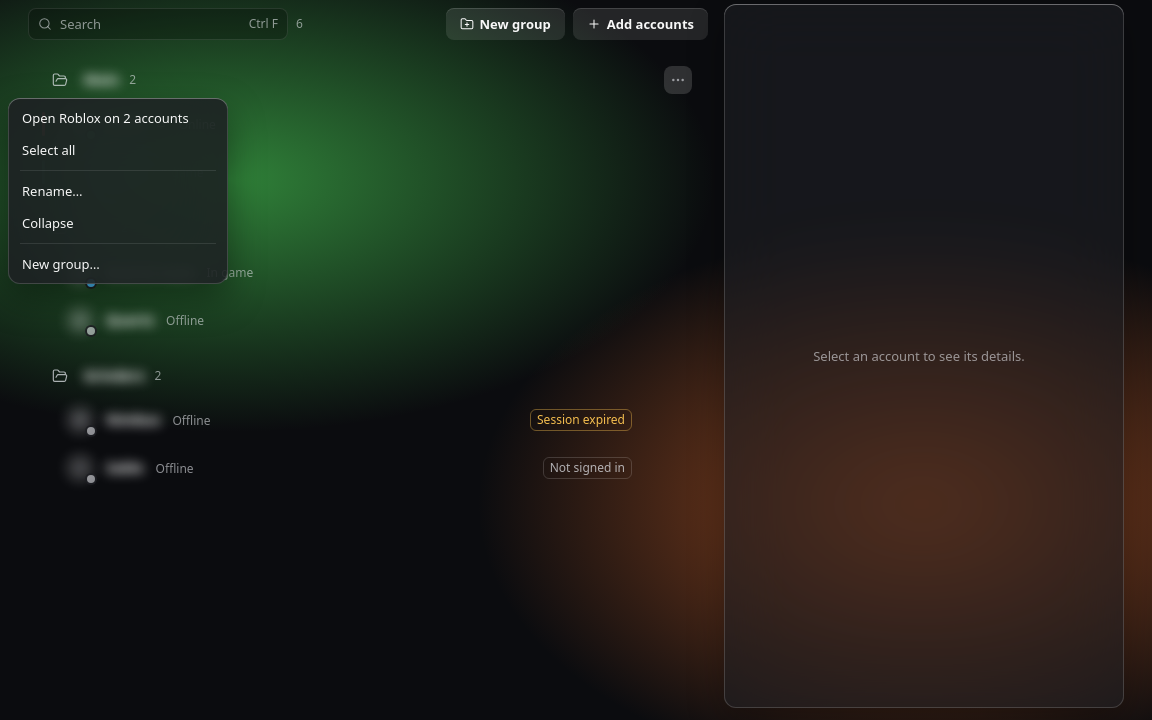
it: group header More -> Rename renames in place, keeping focus in the field
Earlier steps of the test are not shown.
Click the menu item "Rename…": (52, 191) [22,182,82,200]
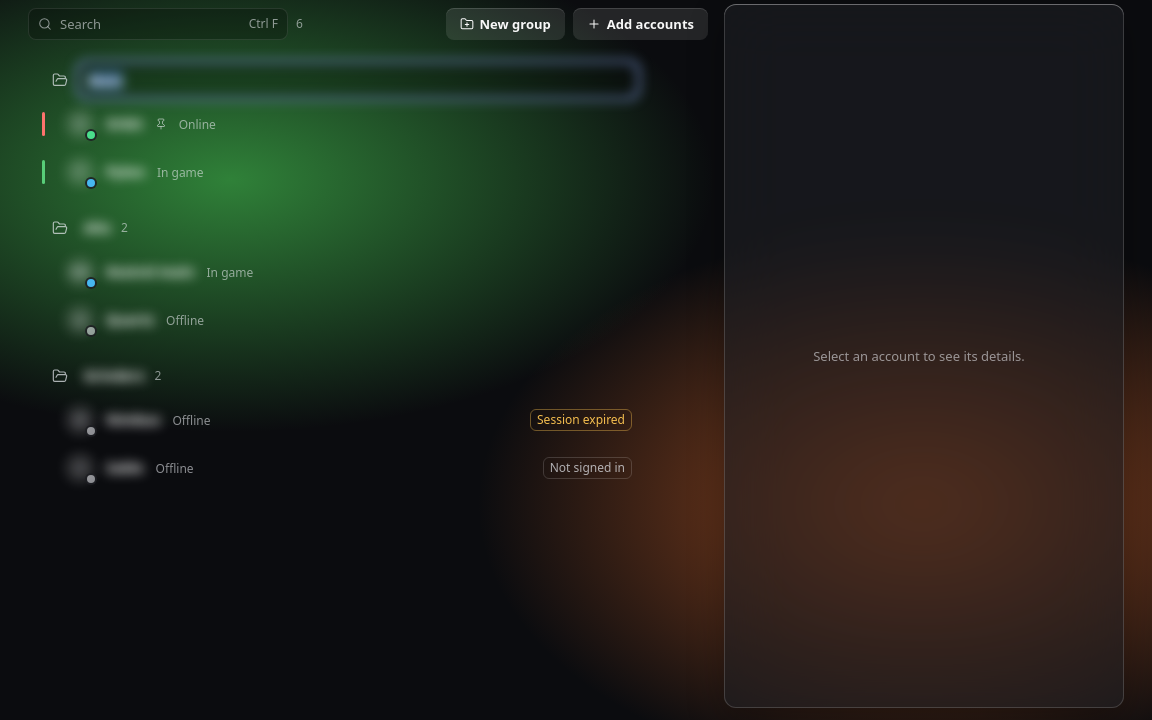
Type keys "{Control>}a{/Control}Crew{Enter}"
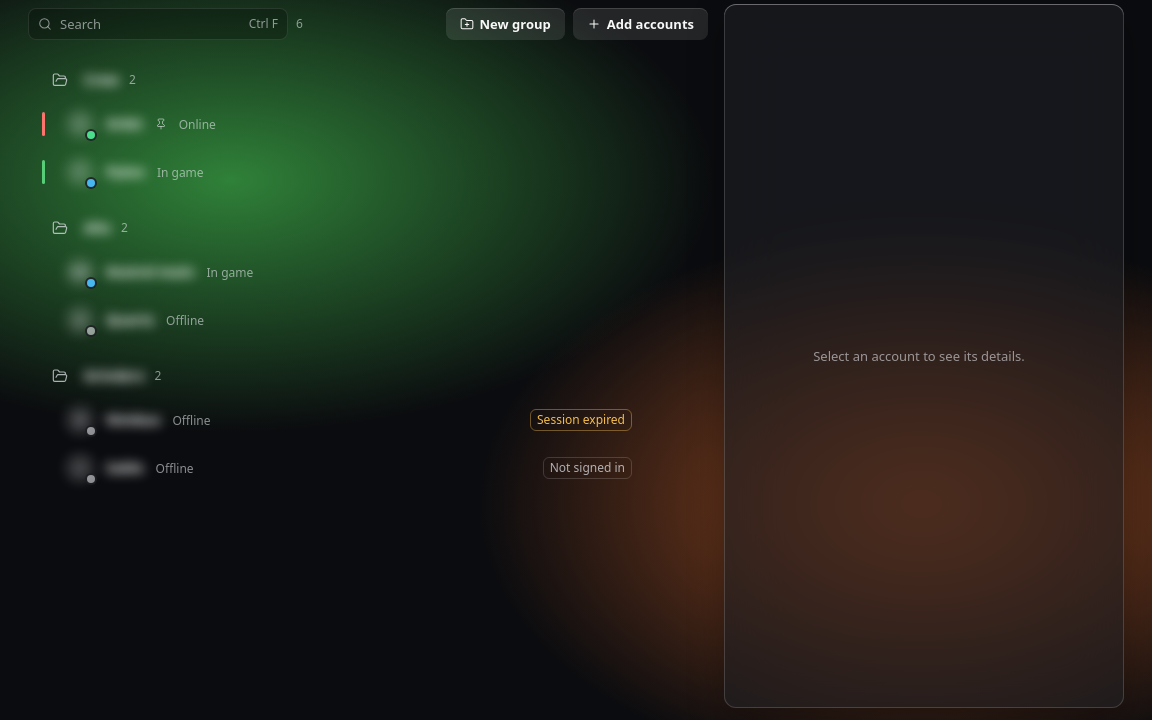
Check: the text "Crew" is shown, box [84,70,119,90]
